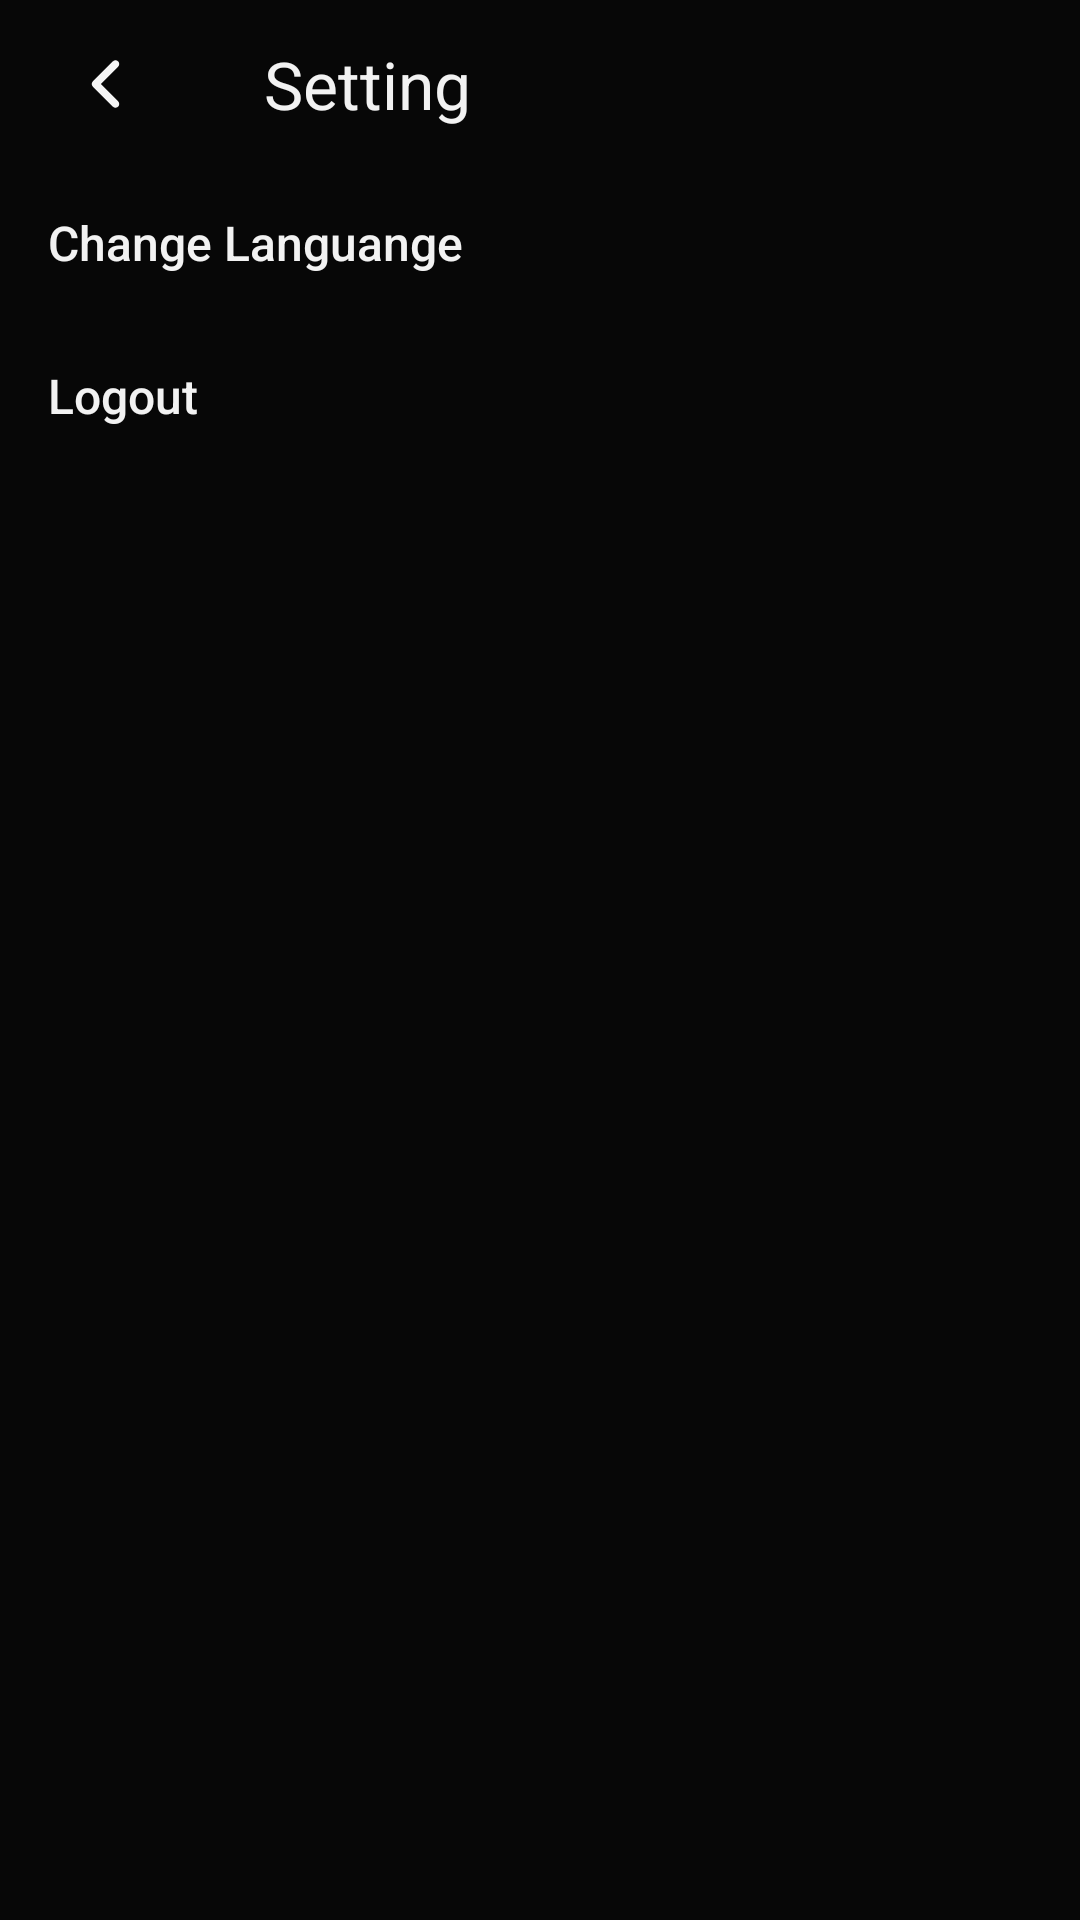

Icons on this 1080px x 1920px Android screen, each with its box as (left=x1, top=y1, right=x2, bottom=y2):
iv close menu: (left=91, top=60, right=120, bottom=108)
